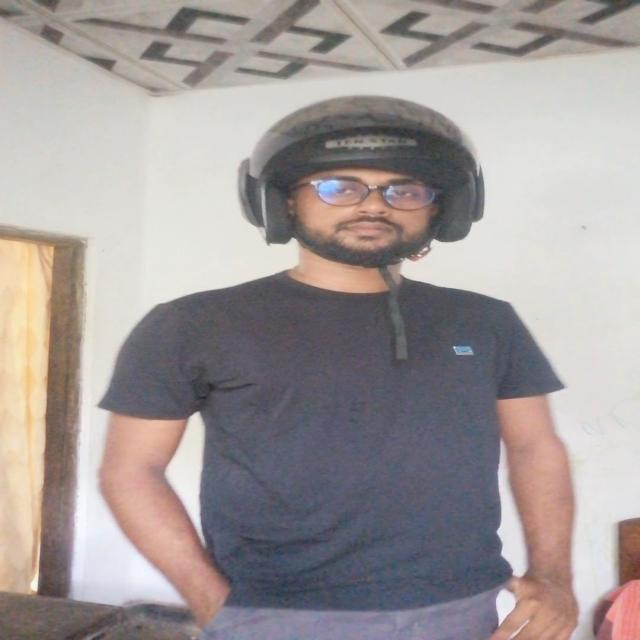Helmet_Wearer: (209, 90, 490, 317)
Person: (81, 93, 578, 640)
